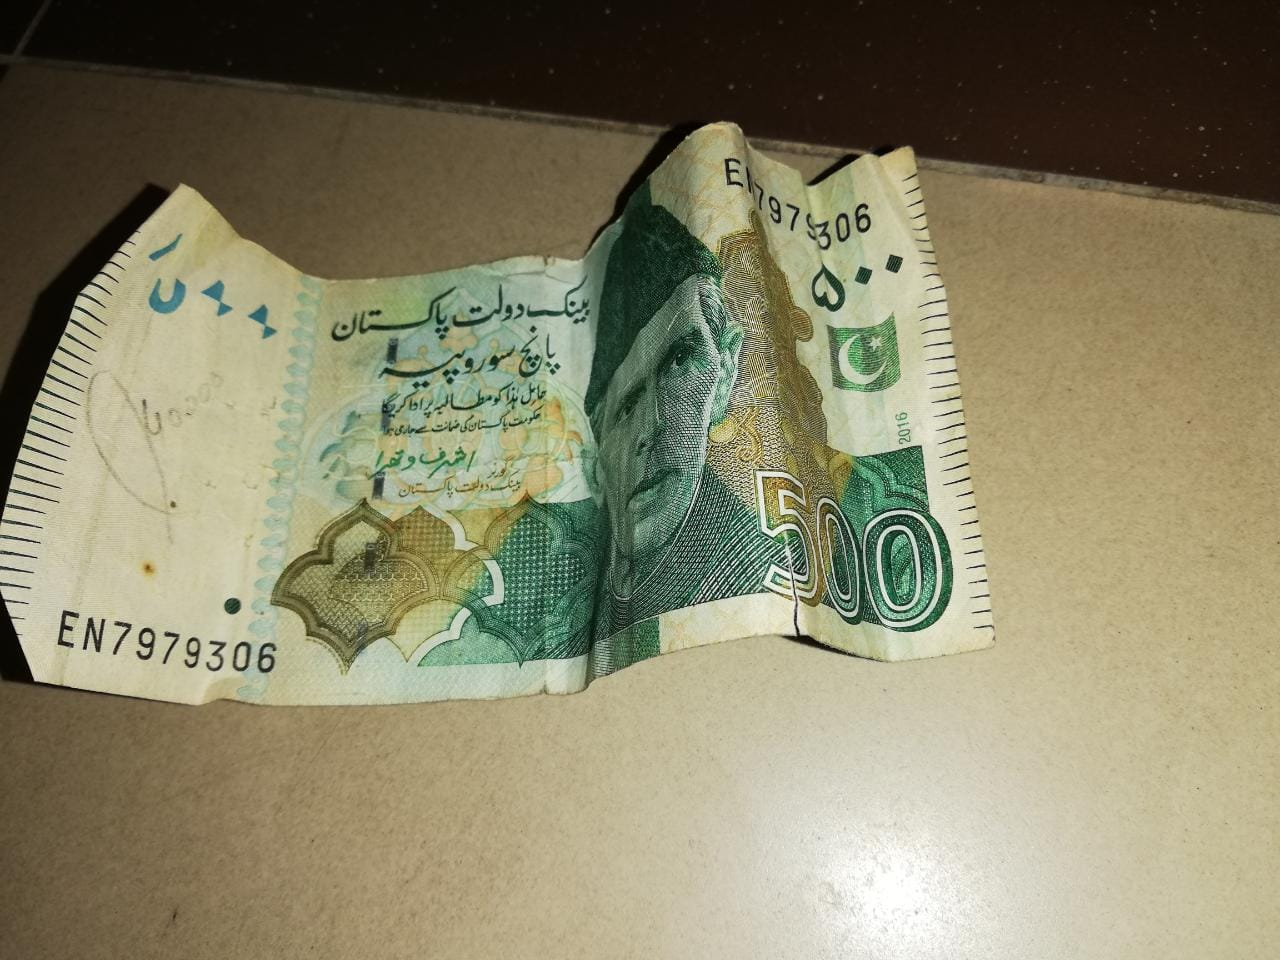500 rupee: (25, 110, 987, 721)
